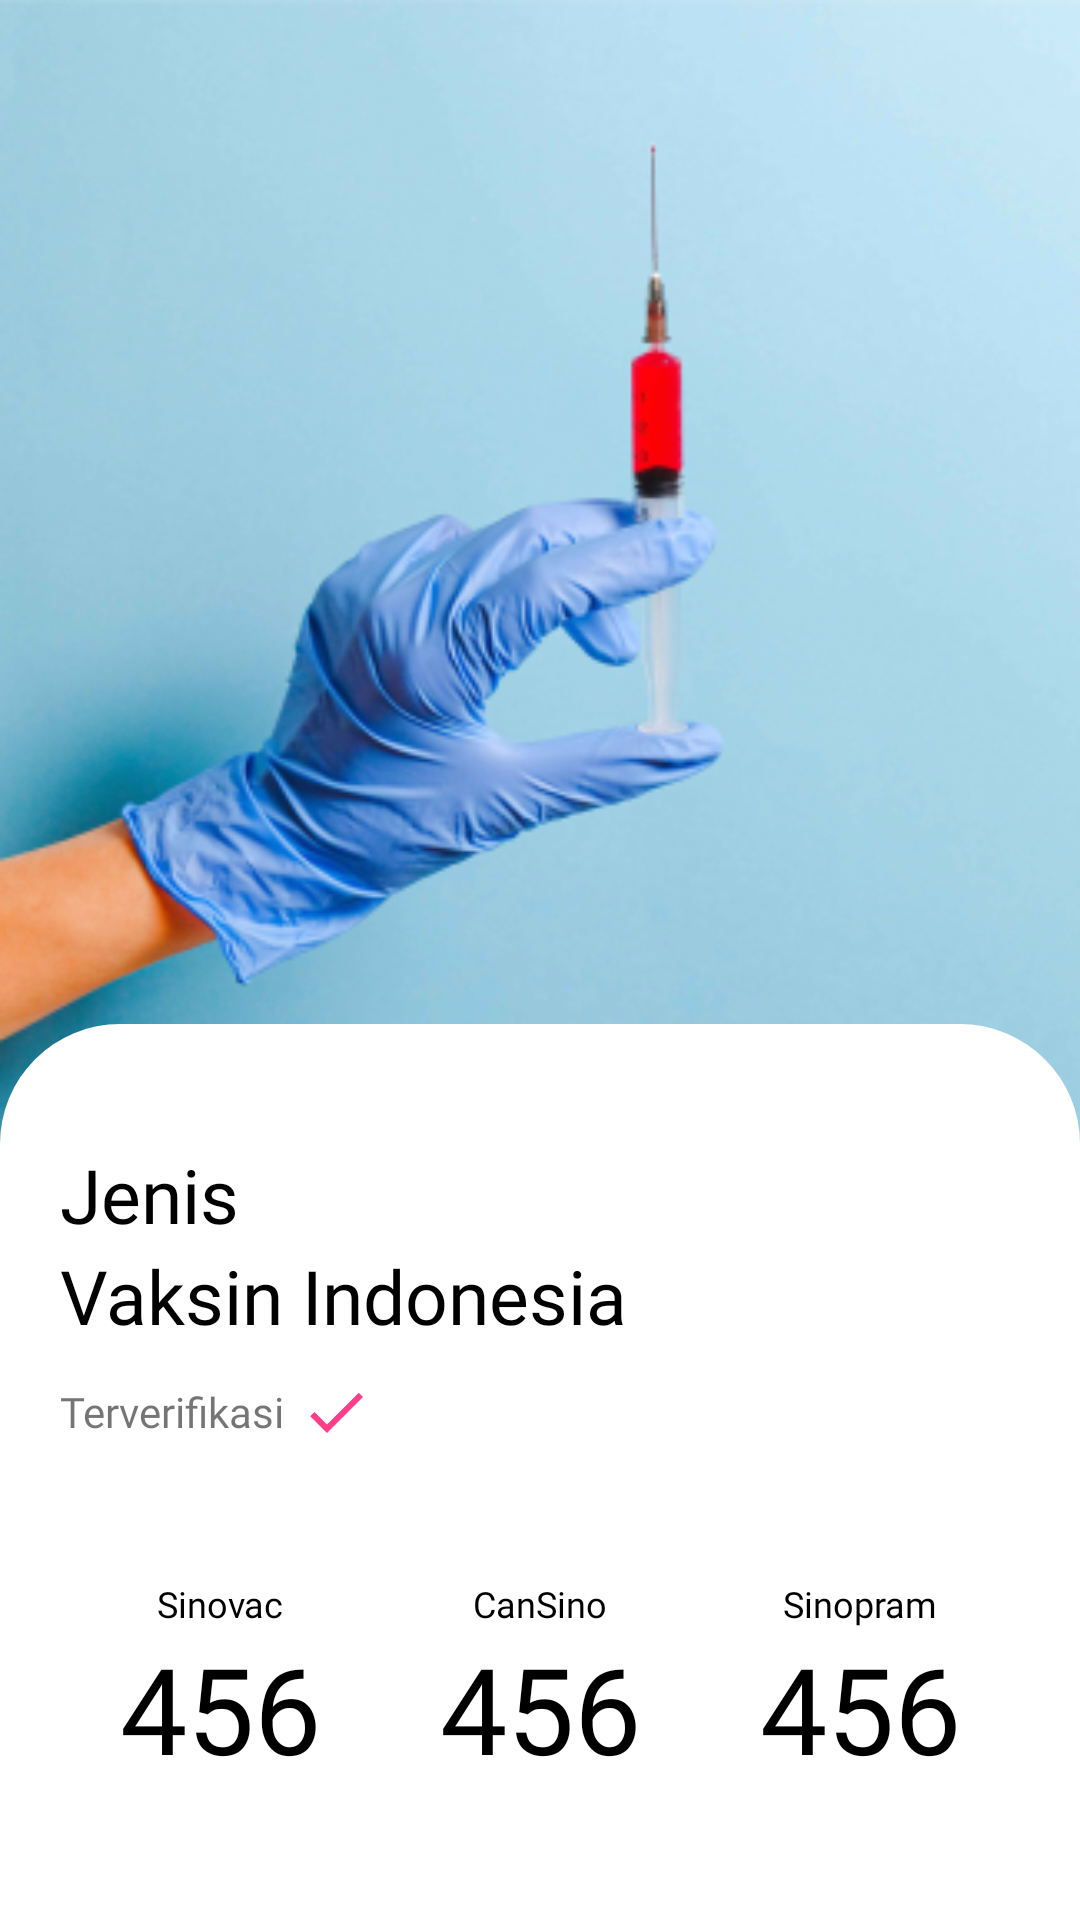

Icon click points for this 1080×1920 phone screenshot, format (x,y):
check: (336,1413)
